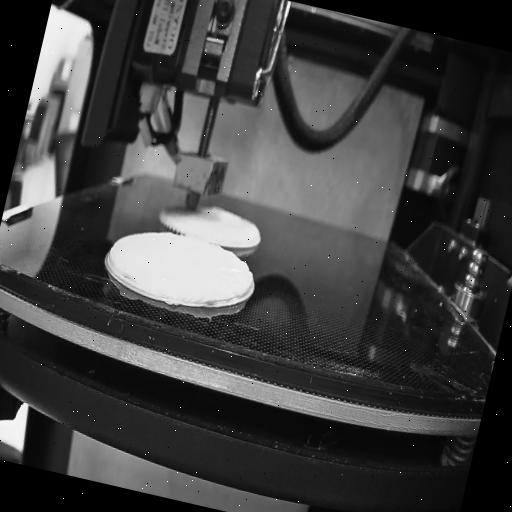over_extrusion: (234, 271, 256, 308)
